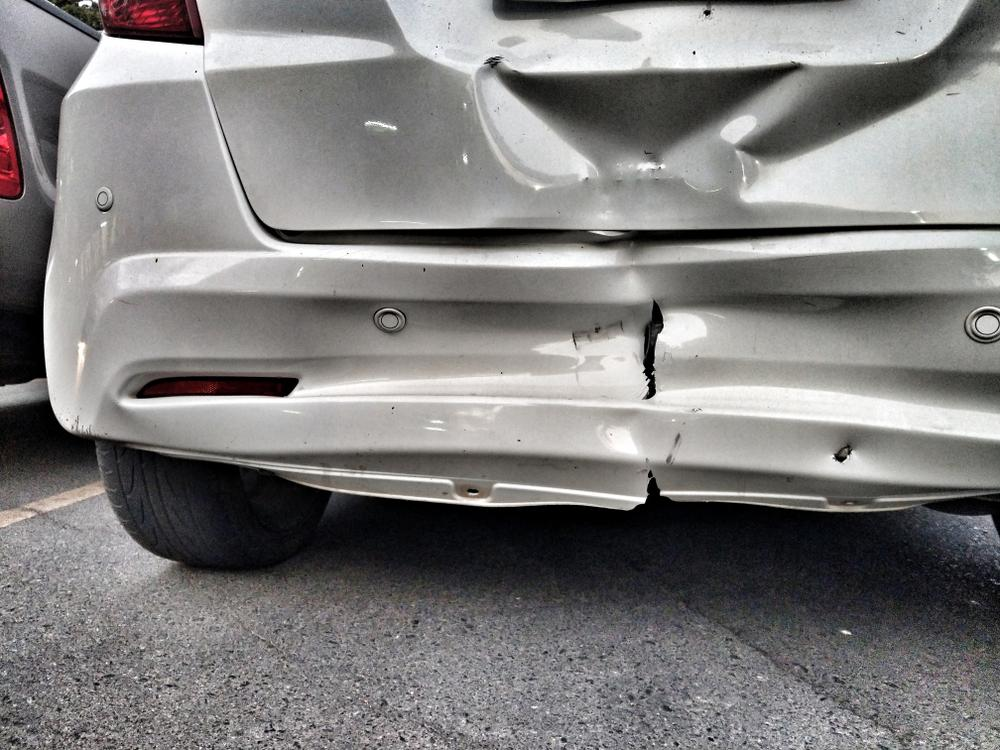crack: (641, 297, 667, 401), (644, 469, 674, 504)
dent: (478, 57, 807, 191)
